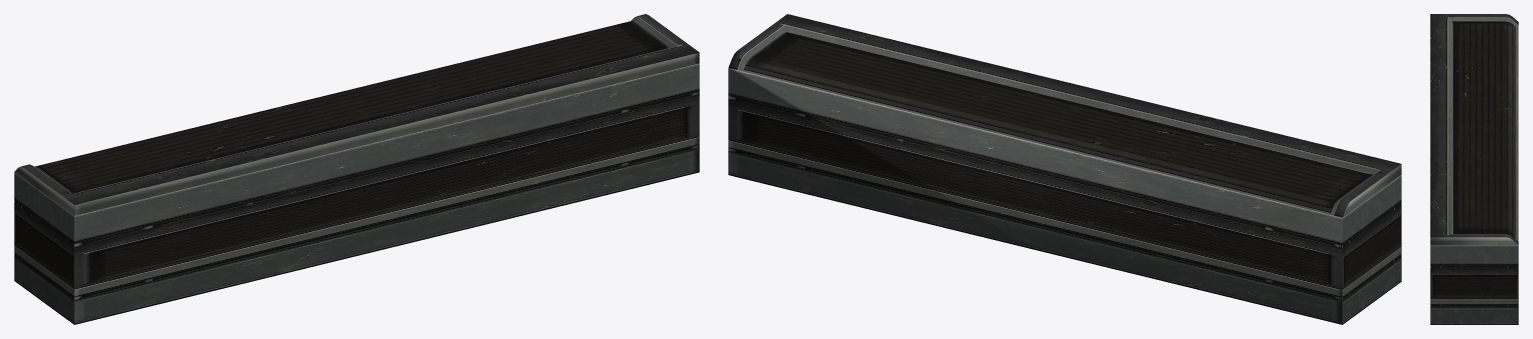
File: Spctr_FloorTrim_01.FBX
3 views of the same model, side by side, from view 1: azimuth 30°, elevation 25°; view 2: azimuth 150°, elevation 25°; view 3: azimuth 270°, elevation 25° (orthographic). The views are drawn at different scales.
Parts seen in each view (by area): view 1: Spctr_FloorTrim_01; view 2: Spctr_FloorTrim_01; view 3: Spctr_FloorTrim_01.
Part boxes in pixels (x1=…): Spctr_FloorTrim_01: x1=14, y1=14, x2=699, y2=324; Spctr_FloorTrim_01: x1=728, y1=14, x2=1401, y2=324; Spctr_FloorTrim_01: x1=1430, y1=14, x2=1518, y2=324.
Bounding box in the file's own units: 6 × 1.1 × 1.
